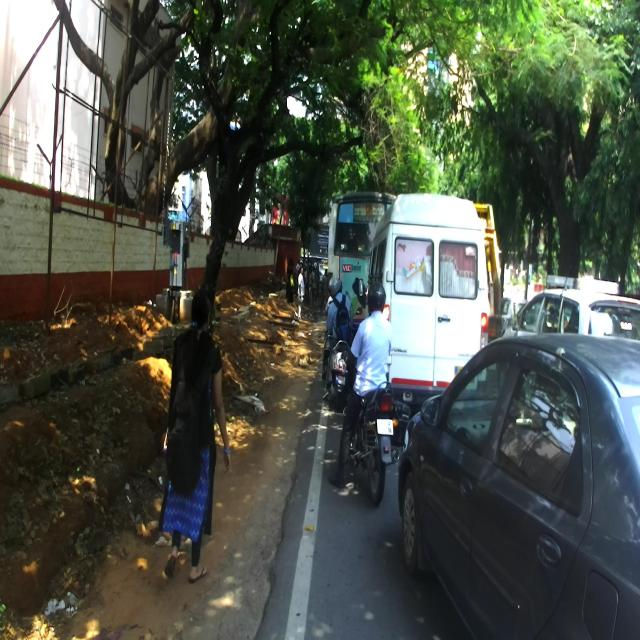Car: (396, 333, 640, 639)
Car_Toyota: (501, 274, 640, 398)
mini-bus: (356, 190, 488, 442)
motorcycle_bajaj: (340, 346, 410, 506)
